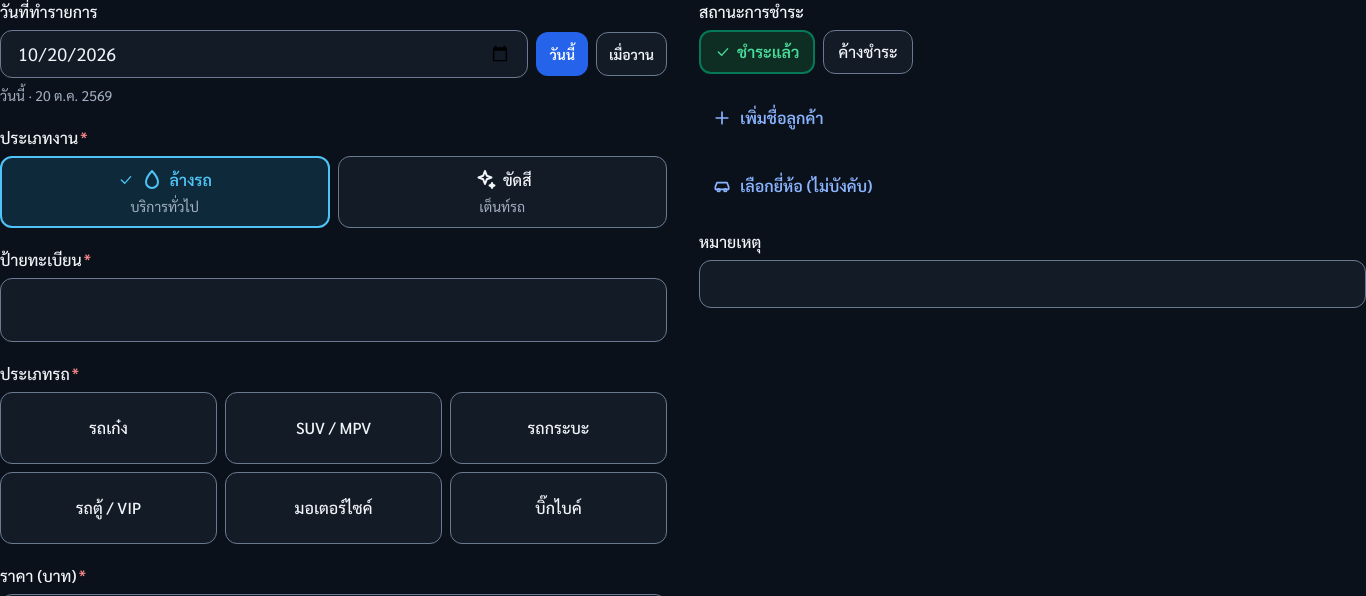
Test: IncomeEditor › shows a regular customer after the plate lookup (AC-08-1)
This screenshot has width=1366, height=596.
Type "กข 1234" into the field labelled "ป้ายทะเบียน*" at (334, 310), box [17,279,650,341]
Wait 700 ms
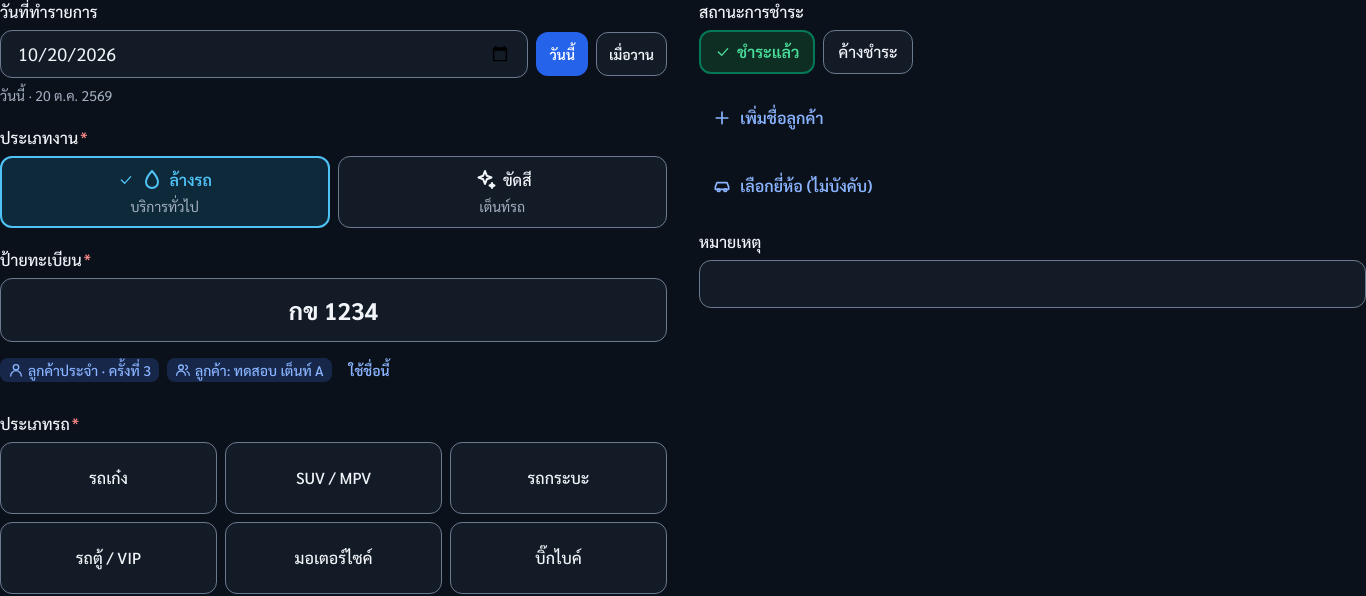
Check: the text "ลูกค้าประจำ · ครั้งที่ 3" is shown, box [0,358,159,382]
